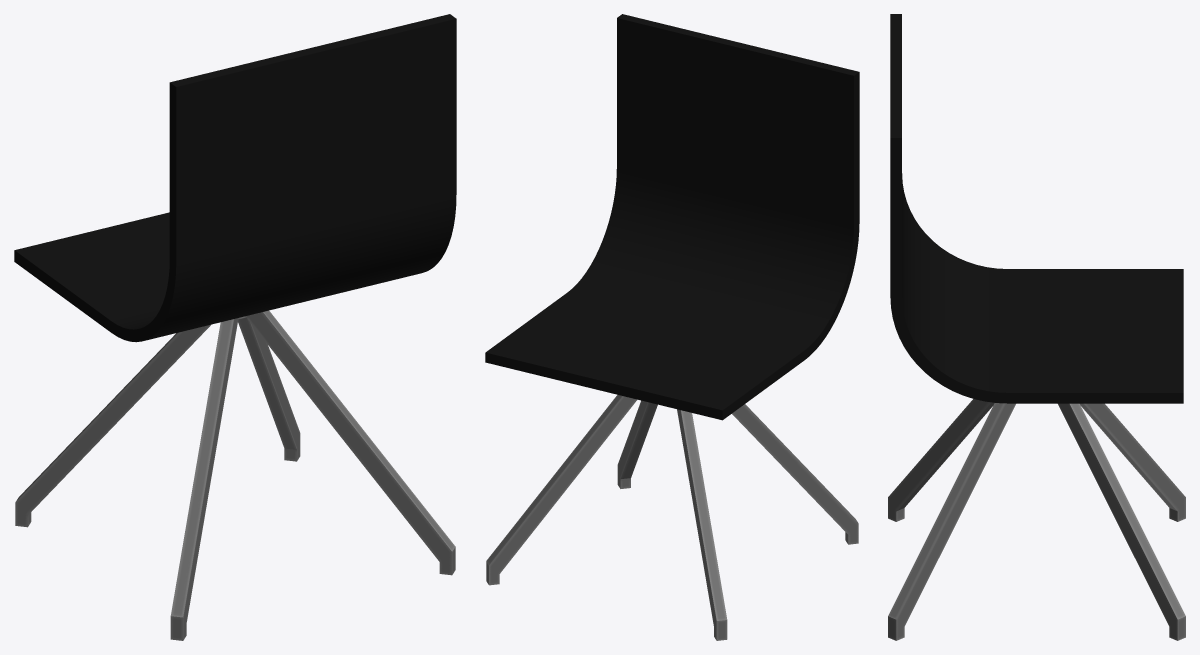
The model's file is office-chair.glb.
The picture shows the model from 3 angles, left to right: view 1: azimuth 30°, elevation 25°; view 2: azimuth 150°, elevation 25°; view 3: azimuth 270°, elevation 25°; orthographic projection. The views are drawn at different scales.
Visible parts, largest first — view 1: office-chair; view 2: office-chair; view 3: office-chair.
Boxes of the visible parts, box(x1,y1,x2,y2) form: office-chair: box(14, 14, 456, 640); office-chair: box(485, 14, 859, 640); office-chair: box(888, 14, 1185, 640).
Size of the model in its own units: 0.5083 by 0.945 by 0.5083.
Materials: 2 (2 with a texture image).
